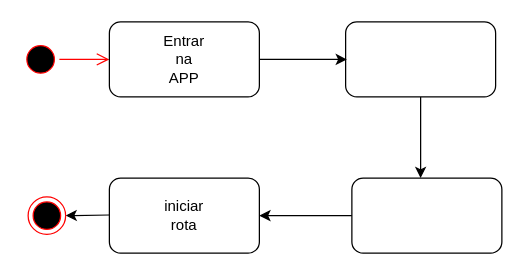
Some shapes in this 524 by 275 pixel diagram are drawn without their labels. Here are the shapes that lost their labels. From the top down, the box of each, then its label:
(344, 21, 496, 97): selecionar aba de favoritos
(351, 177, 502, 253): selecionar uma rota salva
